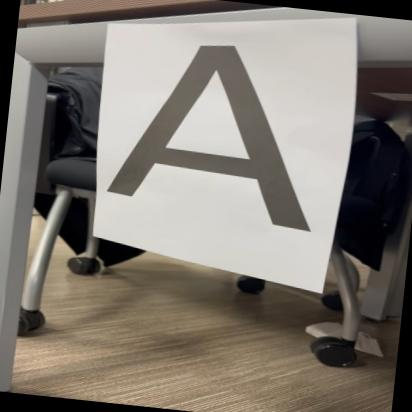seat: (102, 30, 345, 238)
